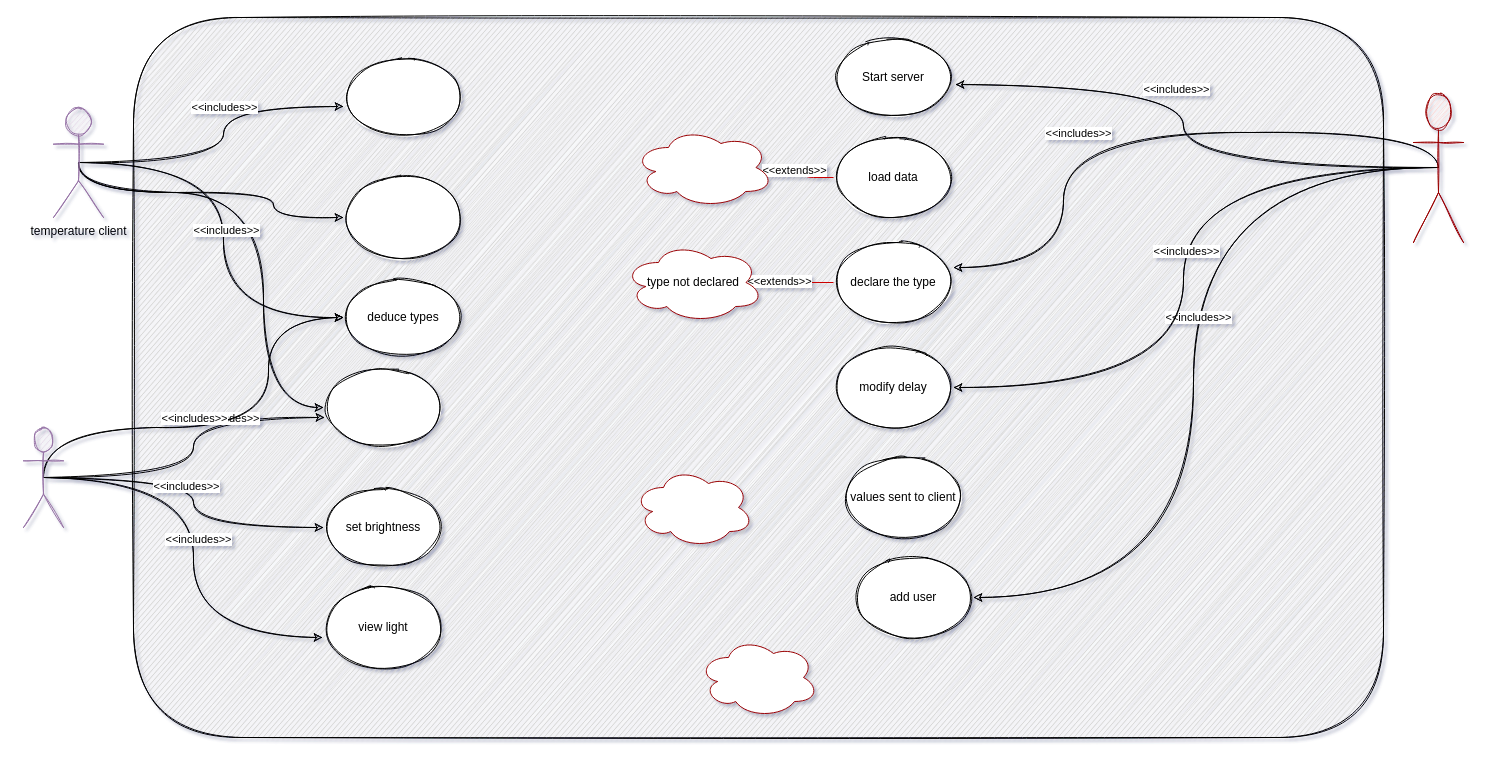
Image size: 1496x761. Some labels were removed from this diagram. The centre of each missing label's shape, as x and y in pixels:
attemp to load data that does not exist: point 703,167
light client: point 43,477
server admin: point 1438,167
set speed: point 403,97
view: point 383,407
view fan: point 403,217
